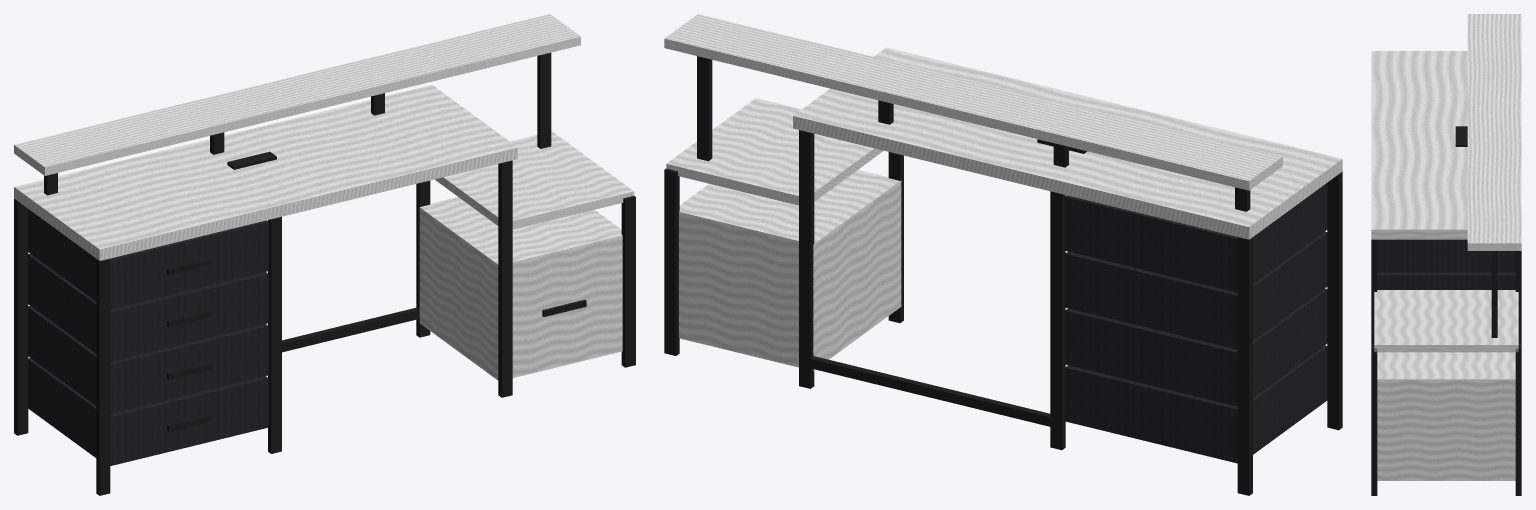
The picture shows the model from 3 angles, left to right: view 1: azimuth 30°, elevation 25°; view 2: azimuth 150°, elevation 25°; view 3: azimuth 270°, elevation 25°; orthographic projection. The views are drawn at different scales.
Parts seen in each view (by area): view 1: 1 main_desktop, 19 right_file_cabinet, 2 monitor_riser, 8 left_drawer_2, 9 left_drawer_3, 10 left_drawer_4, 7 left_drawer_1, 21 printer_shelf, 15 left_frame_front_outer, 22 right_frame_front_inner, 17 left_frame_back_outer, 16 left_frame_front_inner (+4 smaller); view 2: 19 right_file_cabinet, 1 main_desktop, 2 monitor_riser, 8 left_drawer_2, 9 left_drawer_3, 10 left_drawer_4, 7 left_drawer_1, 21 printer_shelf, 17 left_frame_back_outer, 15 left_frame_front_outer, 24 right_frame_back_inner, 18 left_frame_back_inner (+4 smaller); view 3: 1 main_desktop, 19 right_file_cabinet, 2 monitor_riser, 21 printer_shelf, 9 left_drawer_3, 10 left_drawer_4, 23 right_frame_front_outer, 25 right_frame_back_outer, 6 riser_post_right, 22 right_frame_front_inner, 24 right_frame_back_inner, 27 power_outlet_strip.
Boxes of the visible parts, x1,y1,x2,y2 form: 1 main_desktop: (14,85,517,260); 19 right_file_cabinet: (419,197,622,380); 2 monitor_riser: (14,14,580,175); 8 left_drawer_2: (28,253,268,361); 9 left_drawer_3: (28,306,268,413); 10 left_drawer_4: (28,358,268,465); 7 left_drawer_1: (28,209,268,309); 21 printer_shelf: (434,131,634,229); 15 left_frame_front_outer: (96,258,110,495); 22 right_frame_front_inner: (498,160,512,397); 17 left_frame_back_outer: (14,198,28,435); 16 left_frame_front_inner: (268,216,281,453); 19 right_file_cabinet: (679,170,901,370); 1 main_desktop: (793,47,1342,239); 2 monitor_riser: (664,14,1282,190); 8 left_drawer_2: (1065,231,1327,349); 9 left_drawer_3: (1065,288,1327,406); 10 left_drawer_4: (1065,345,1327,463); 7 left_drawer_1: (1065,183,1327,292); 21 printer_shelf: (666,98,883,205); 17 left_frame_back_outer: (1237,237,1252,495); 15 left_frame_front_outer: (1327,171,1342,430); 24 right_frame_back_inner: (799,130,814,388); 18 left_frame_back_inner: (1050,191,1065,450); 1 main_desktop: (1371,51,1467,239); 19 right_file_cabinet: (1377,352,1515,480); 2 monitor_riser: (1467,14,1521,250); 21 printer_shelf: (1374,290,1518,352); 9 left_drawer_3: (1377,239,1515,272); 10 left_drawer_4: (1377,272,1515,289); 23 right_frame_front_outer: (1371,344,1377,495); 25 right_frame_back_outer: (1515,344,1521,495); 6 riser_post_right: (1491,251,1497,337); 22 right_frame_front_inner: (1371,239,1377,343); 24 right_frame_back_inner: (1515,251,1521,343); 27 power_outlet_strip: (1455,126,1467,146).
Bounding box in the file's own units: 1.95 × 1 × 0.538.
4 materials, 2 textured.
